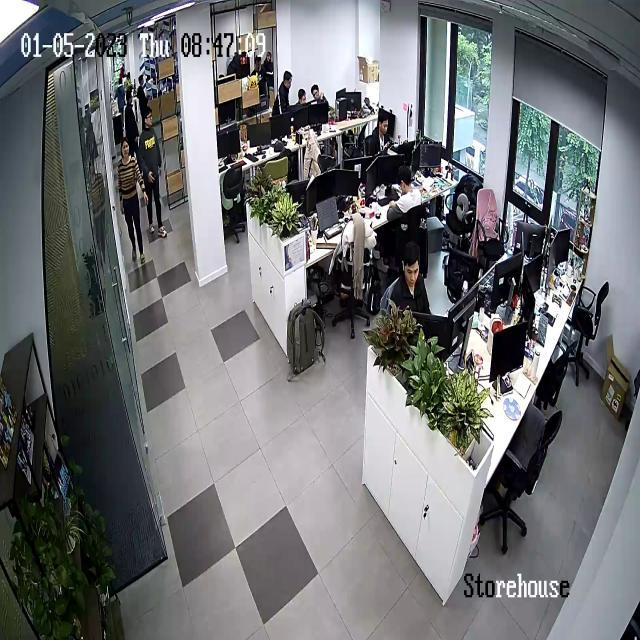person: (137, 112, 169, 242), (117, 137, 148, 261), (381, 241, 432, 316), (389, 165, 424, 215), (274, 70, 295, 114), (374, 106, 397, 146), (310, 83, 328, 107), (294, 88, 309, 112)
